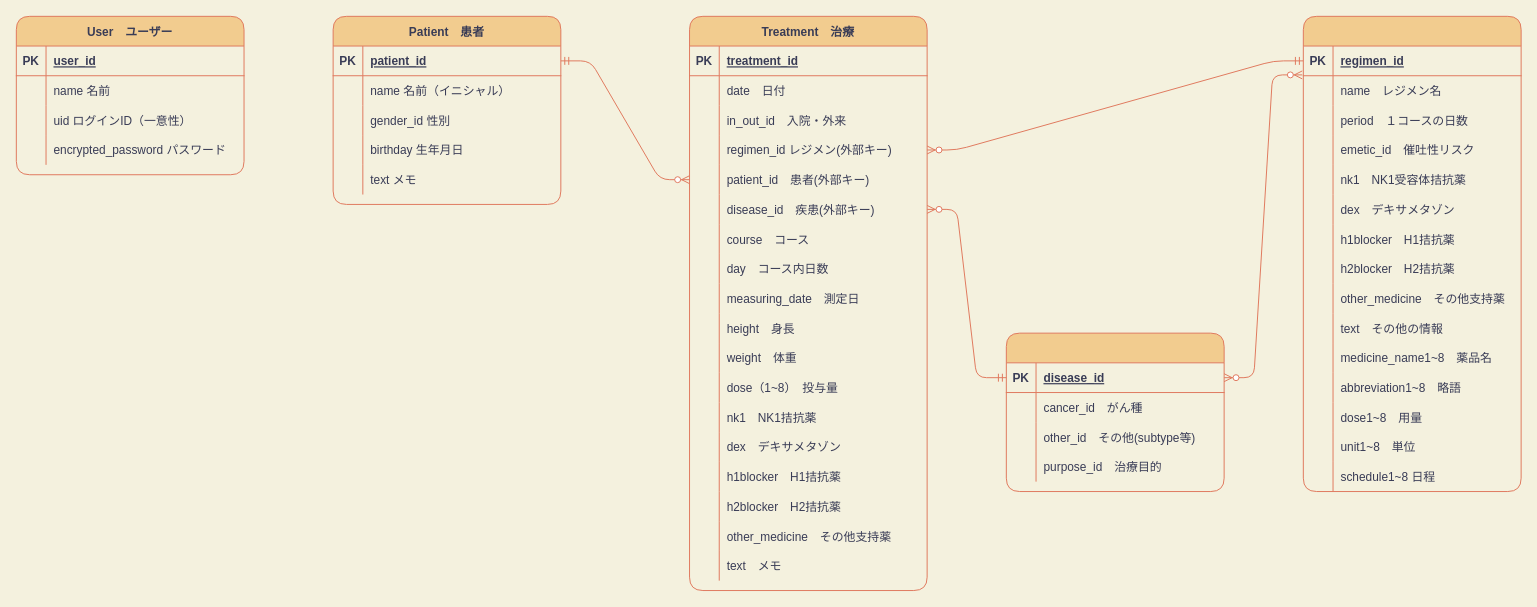
The diagram is 1537 pixels wide and 607 high, and some of its shapes have lost their labels. Each missing label, with the box of its shape:
Disease 疾患: (1005, 332, 1224, 492)
Regimen レジメン: (1302, 15, 1521, 492)
